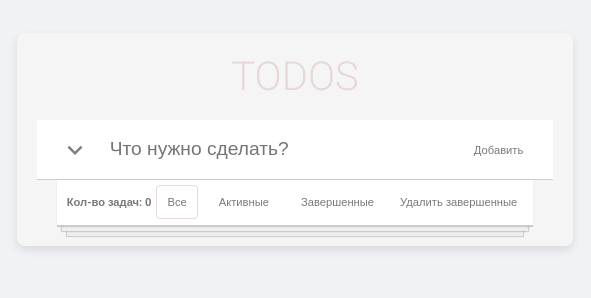
Scenario: Компонент TodoList › Input работает
Type "Новое дело" into the field with placeholder "Что нужно сделать?" at (295, 150), box x1=37 y1=120 x2=553 y2=180
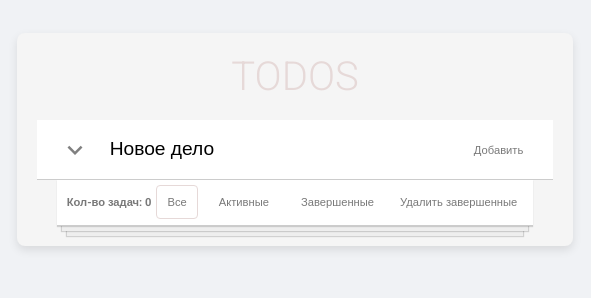
Click the button "Добавить" at (499, 150), box x1=454 y1=134 x2=543 y2=166
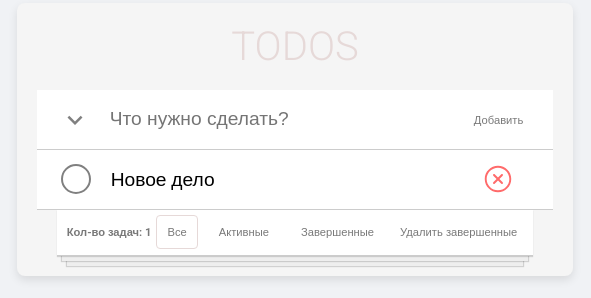
Expected: the text "Новое дело" is shown, x1=111 y1=168 x2=215 y2=190
